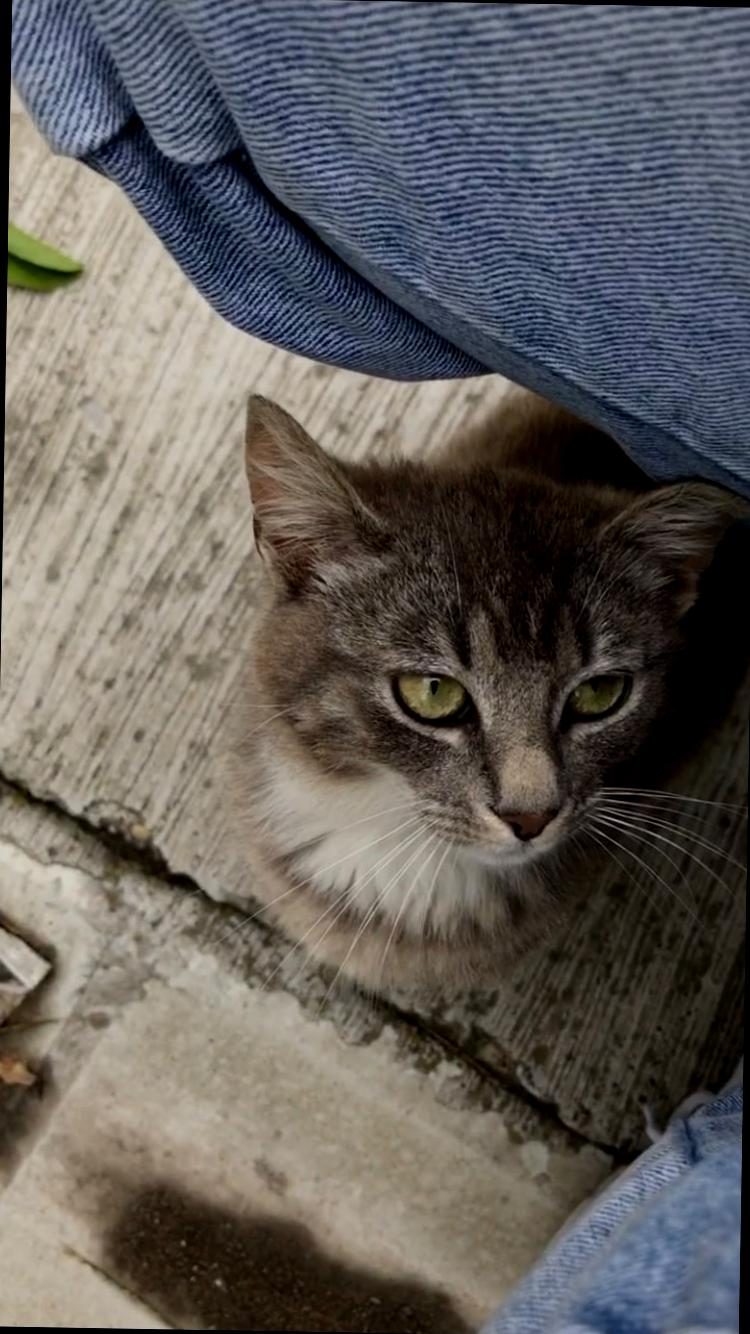macka: (227, 391, 750, 994)
